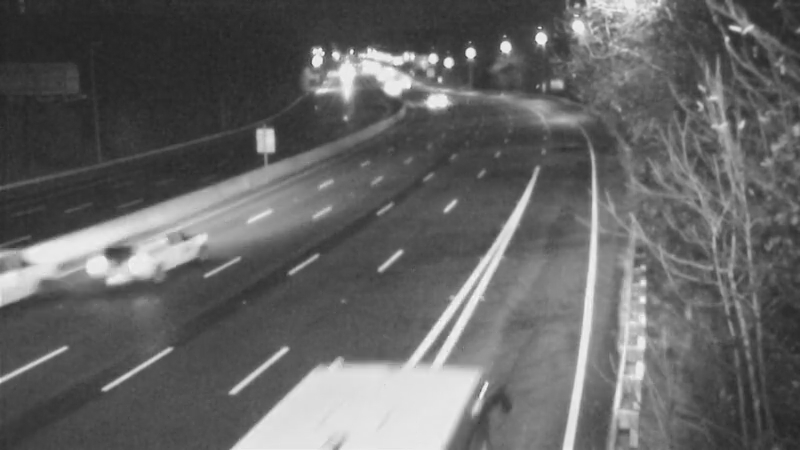vehicle: (84, 227, 164, 307), (411, 72, 461, 122)
